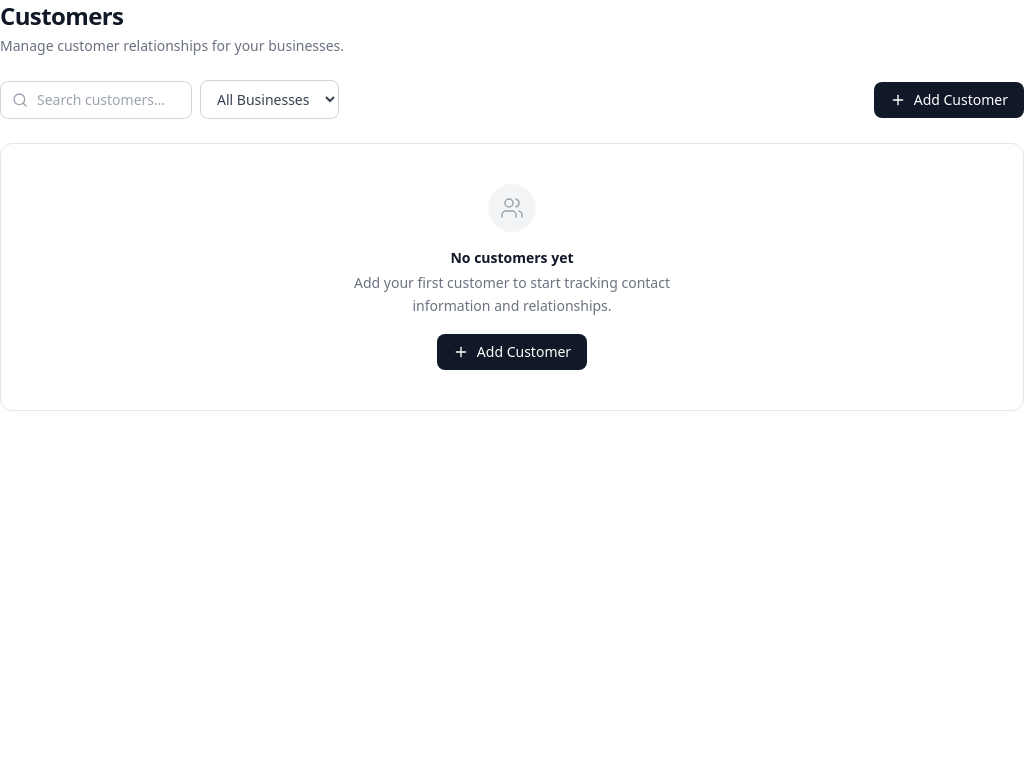
it: CustomersPage — create › shows validation error for empty name
This screenshot has width=1024, height=768.
Expected: the heading "No customers yet" is shown, [450, 248, 574, 268]
Click the 1st button "Add Customer" at coordinates (949, 100), box [874, 82, 1023, 118]
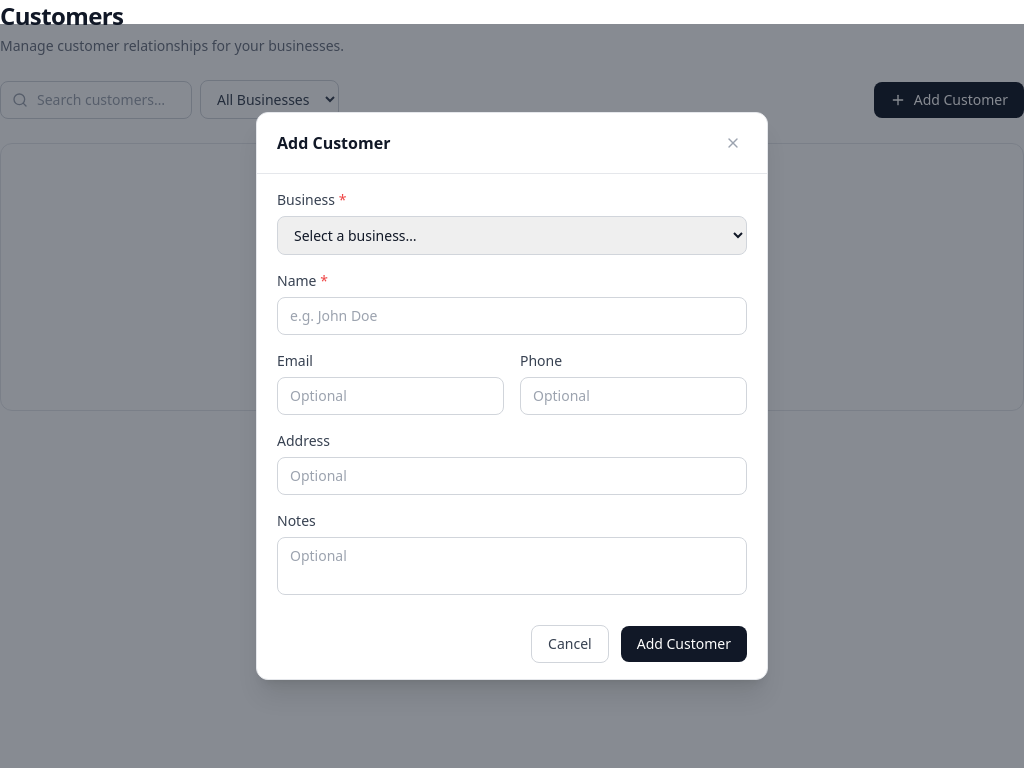
Now the dialog is shown, box [256, 112, 768, 680]
Click the button "Add Customer" at coordinates (684, 644), box [621, 626, 747, 662]
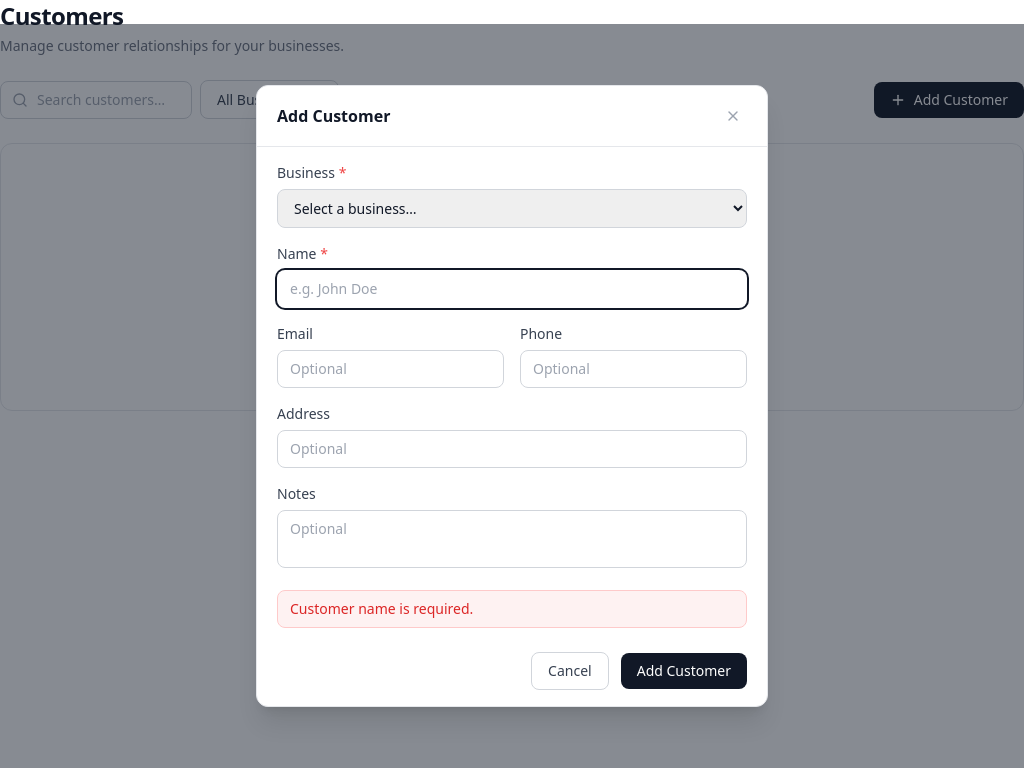
Now the text "Customer name is required." is shown, box [277, 590, 747, 628]
